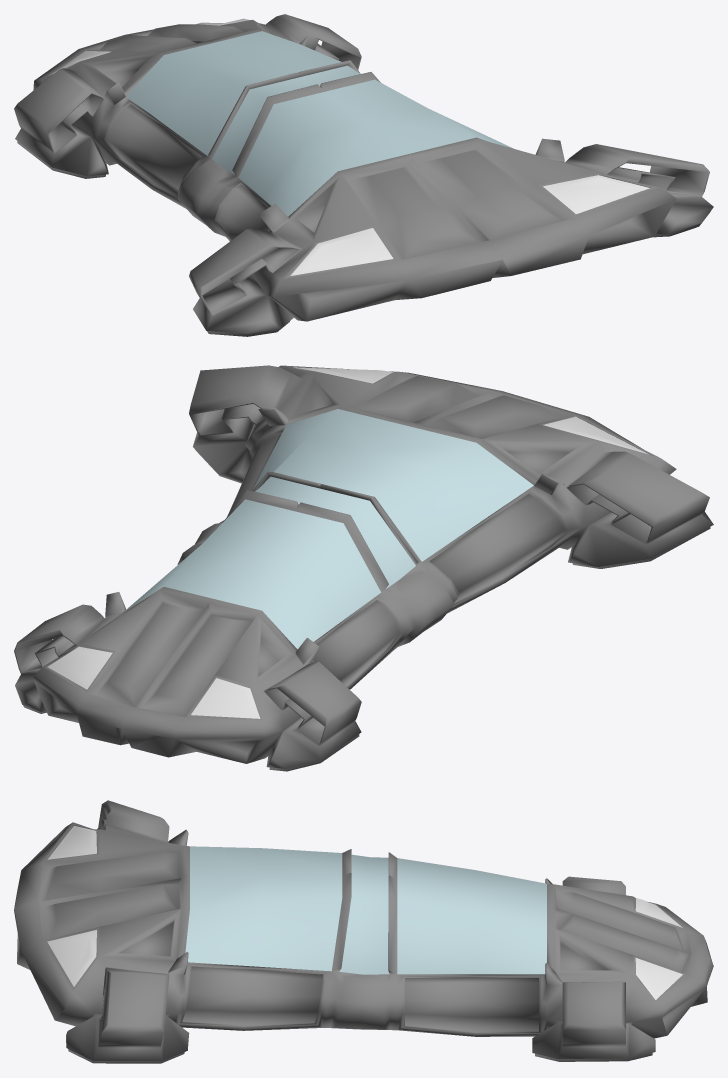
Rendered from HoverCar.FBX.
3 renders of one model, top to bottom at view 1: azimuth 30°, elevation 25°; view 2: azimuth 150°, elevation 25°; view 3: azimuth 270°, elevation 25°, orthographic. The views are drawn at different scales.
Parts seen in each view (by area): view 1: Body; view 2: Body; view 3: Body.
Part boxes in pixels (x1,y1,x2,y2): Body: (14, 14, 713, 336); Body: (14, 365, 713, 771); Body: (14, 800, 713, 1063).
Size of the model in its own units: 6.95 by 1.82 by 8.99.
